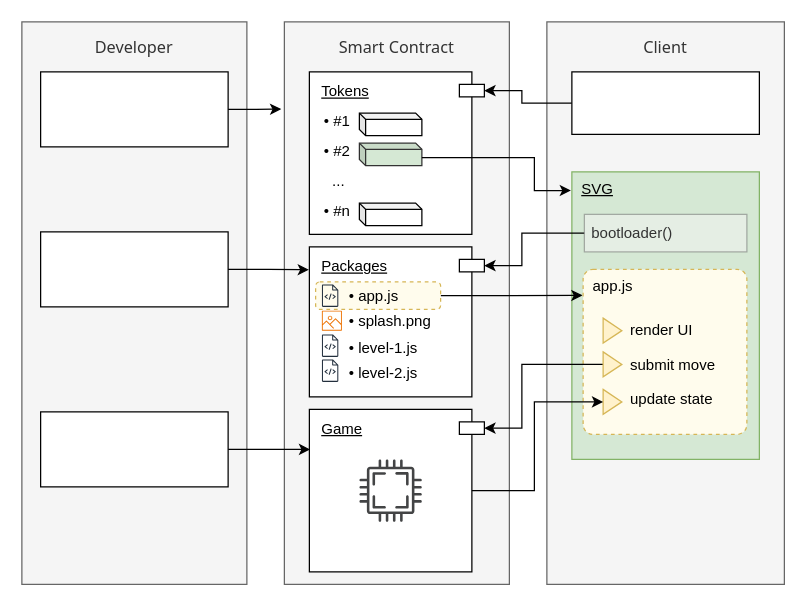
The diagram is 806 pixels wide and 606 high, and some of its shapes have lost their labels. Here are the shapes that lost their labels. From the top down, the centre of each, then its label:
[133,109]: Deploy smart contract to chain
[665,102]: Mint new token
[133,269]: Upload package(s)
[133,449]: Optionally configure parameters
